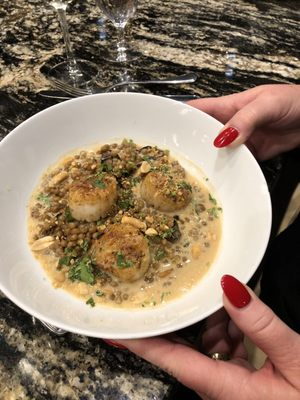sushi: (2, 92, 284, 400)
